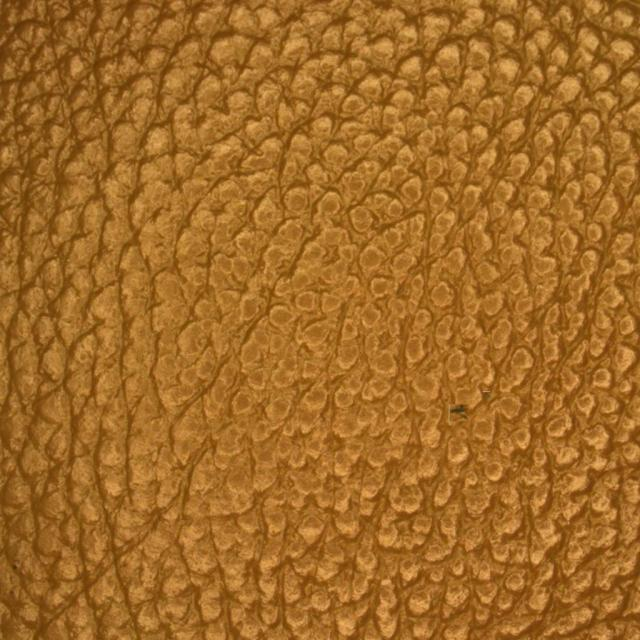pinhole: (377, 319, 556, 498)
